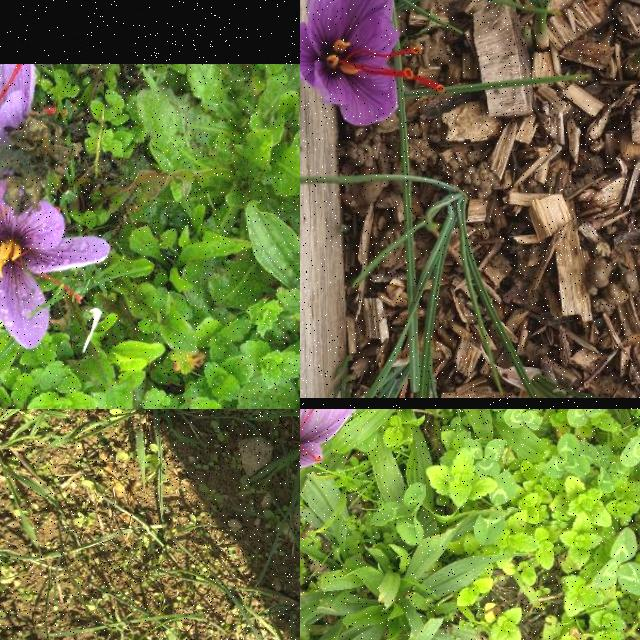flower: (0, 177, 111, 352), (300, 0, 447, 128), (0, 64, 68, 148), (300, 409, 356, 496)
